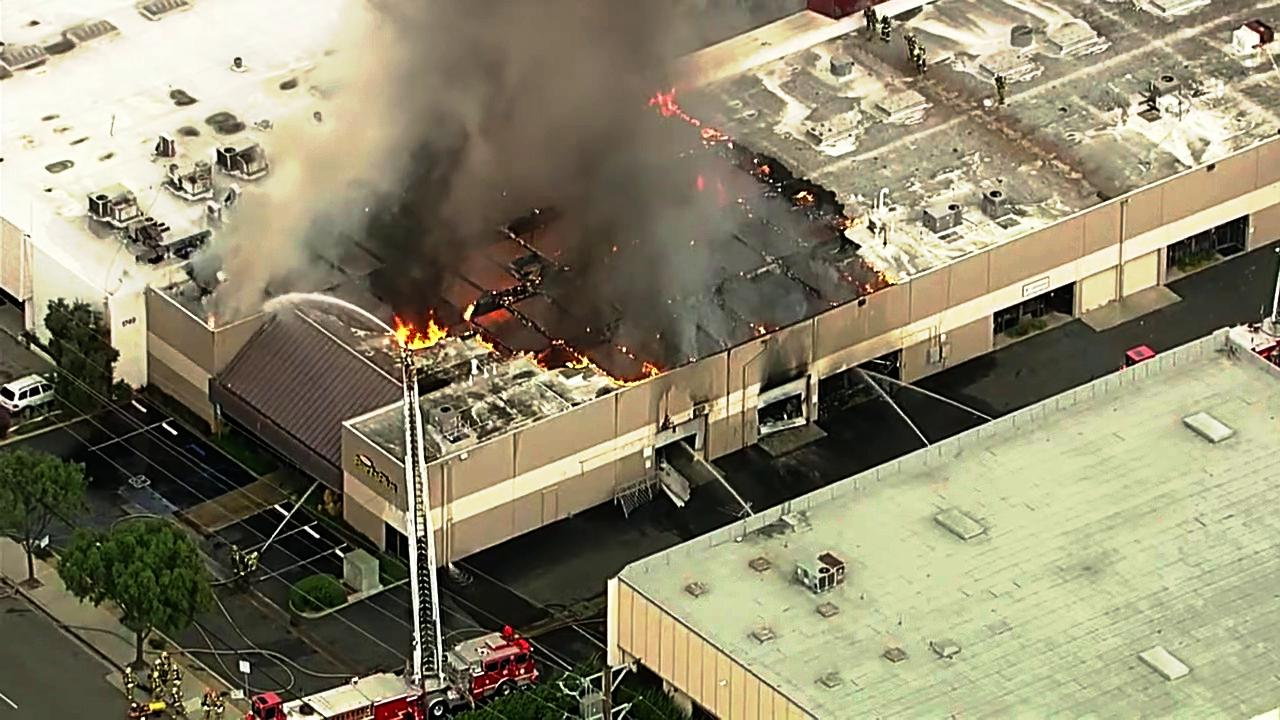fire: (372, 307, 449, 360)
smoke: (372, 0, 647, 268)
